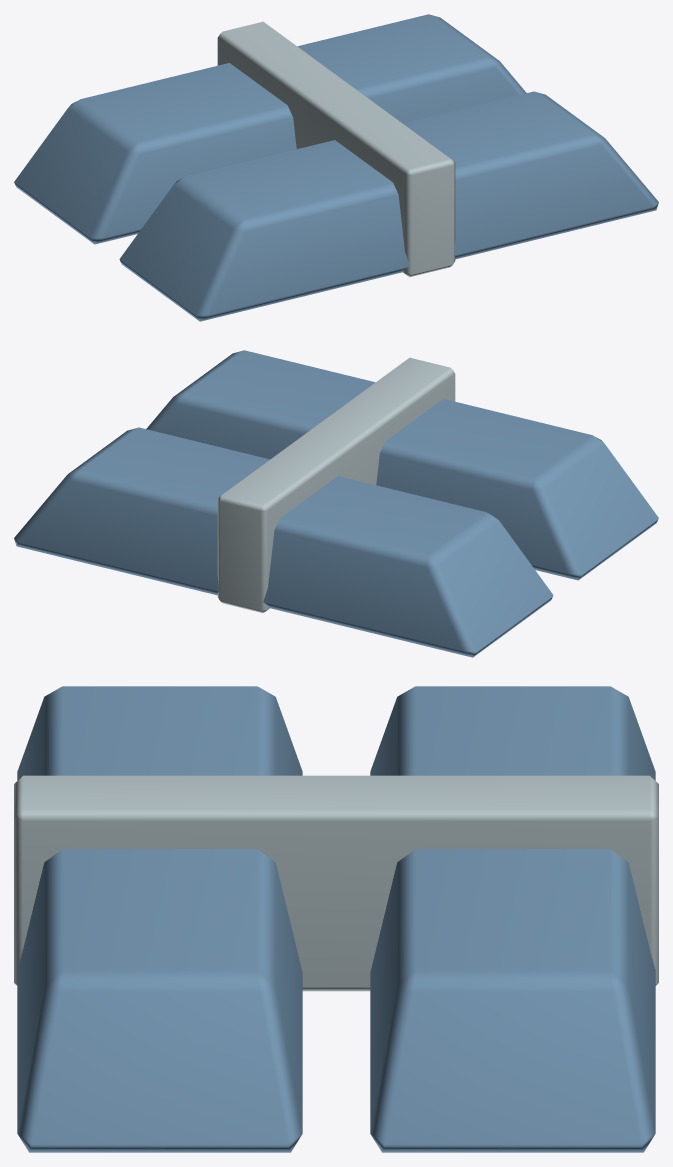
Rendered from steel.glb.
The picture shows the model from 3 angles, top to bottom: view 1: azimuth 30°, elevation 25°; view 2: azimuth 150°, elevation 25°; view 3: azimuth 270°, elevation 25°; orthographic projection. The views are drawn at different scales.
Parts seen in each view (by area): view 1: Cast metal bar, Cast metal bar.001, Steel band; view 2: Cast metal bar.001, Cast metal bar, Steel band; view 3: Cast metal bar, Cast metal bar.001, Steel band.
Boxes of the visible parts, box(x1,y1,x2,y2) form: Cast metal bar: box(119, 91, 658, 321); Cast metal bar.001: box(14, 14, 526, 244); Steel band: box(217, 21, 455, 277); Cast metal bar.001: box(14, 427, 553, 657); Cast metal bar: box(146, 350, 658, 580); Steel band: box(217, 357, 455, 613); Cast metal bar: box(17, 686, 302, 1152); Cast metal bar.001: box(370, 686, 655, 1152); Steel band: box(14, 775, 658, 991).
Bounding box in the file's own units: 1.47 × 0.33 × 1.06.
